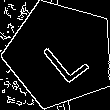L_NW: (31, 25, 89, 84)
